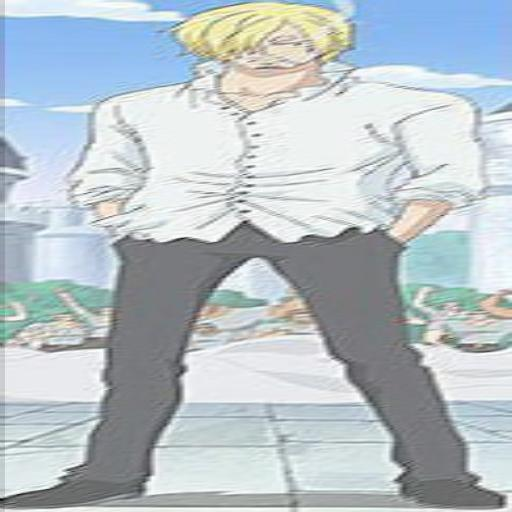sanji: (3, 0, 512, 503)
